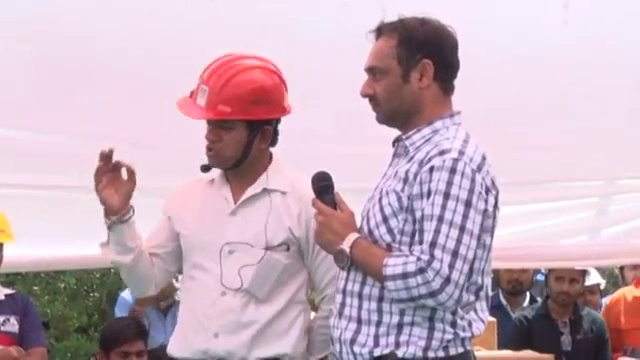helmet: (178, 54, 292, 123), (0, 209, 17, 247), (583, 268, 606, 290)
helmet_off: (361, 17, 460, 130), (97, 316, 153, 360), (544, 268, 585, 314), (493, 270, 531, 305), (616, 261, 639, 289)
helmet_on: (178, 55, 292, 169), (0, 209, 20, 276), (584, 268, 606, 311)
person: (93, 57, 336, 359), (311, 16, 497, 360), (511, 268, 615, 360), (0, 210, 51, 360), (117, 276, 182, 358), (483, 269, 542, 344), (601, 262, 640, 358)
